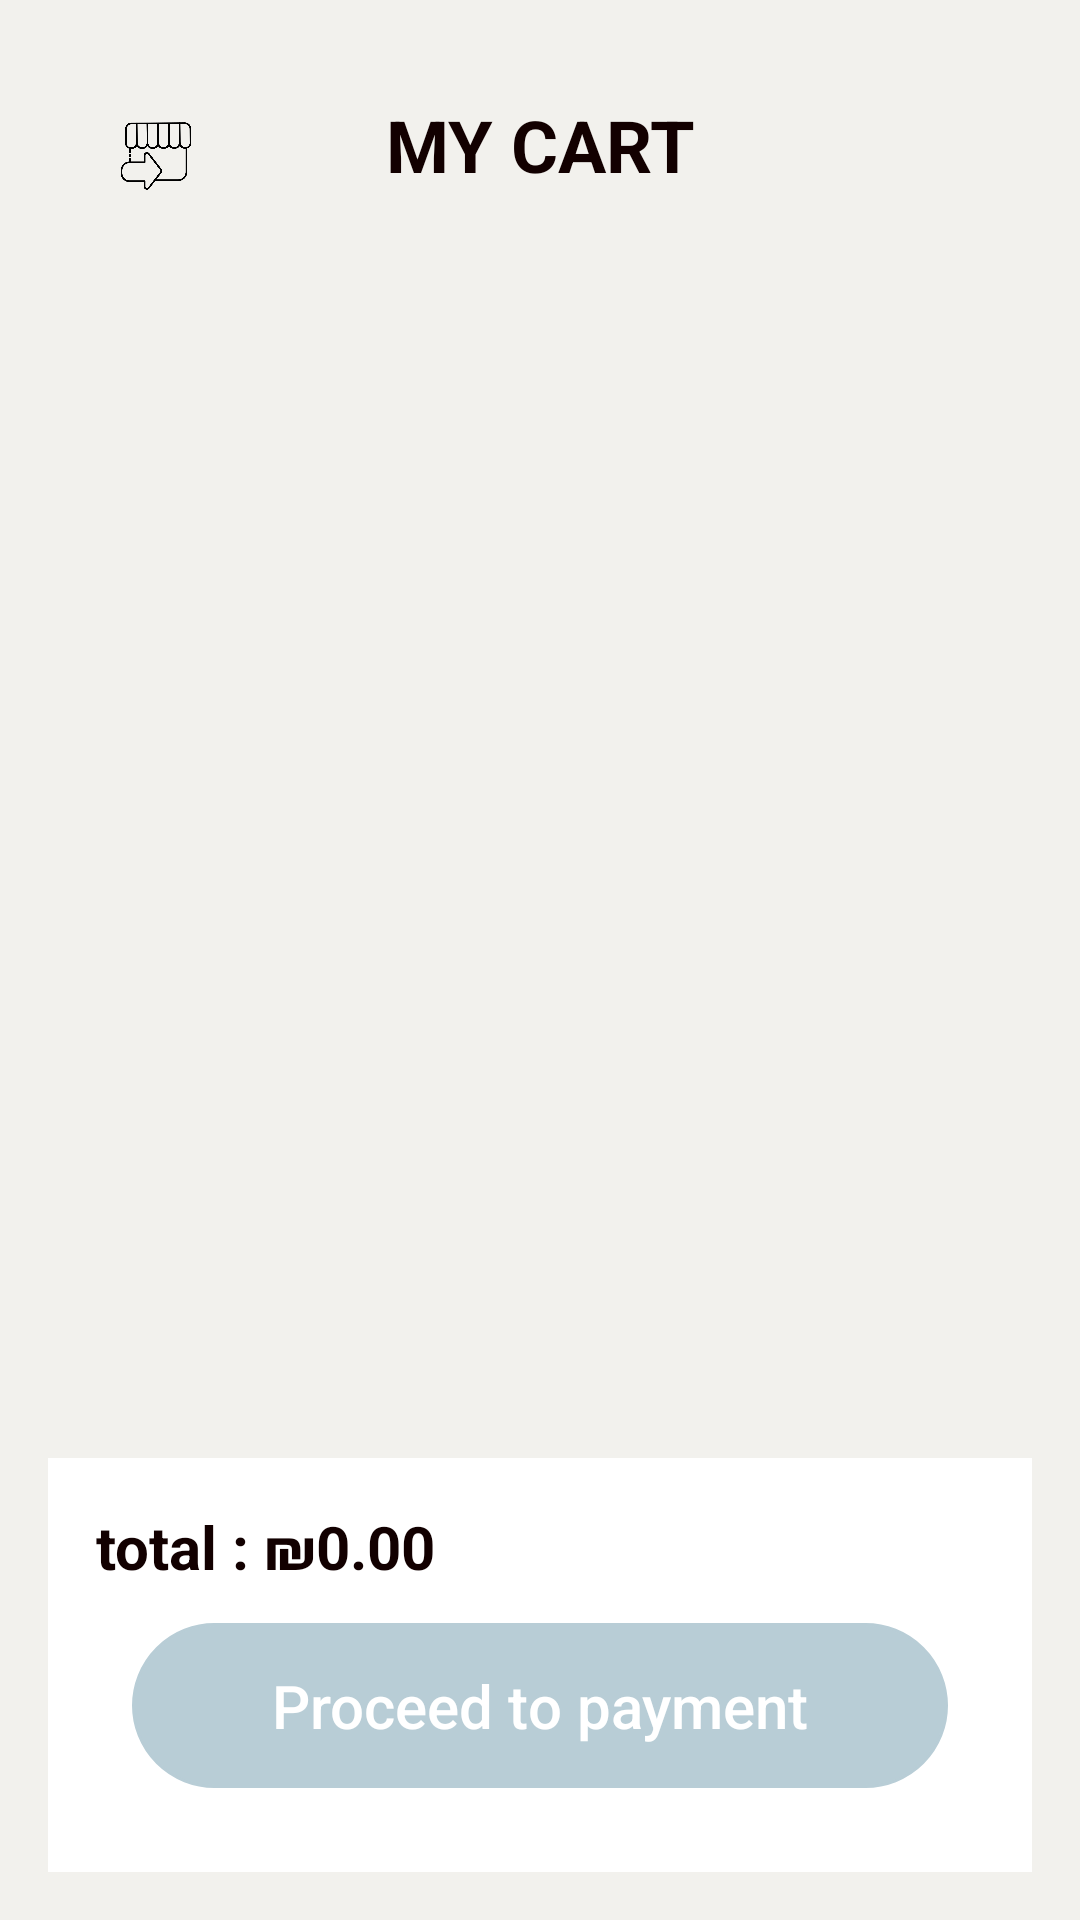

Screen size 1080px x 1920px. Icon name, then its center in pixels as [x,y]:
Back to Products: [156,156]
